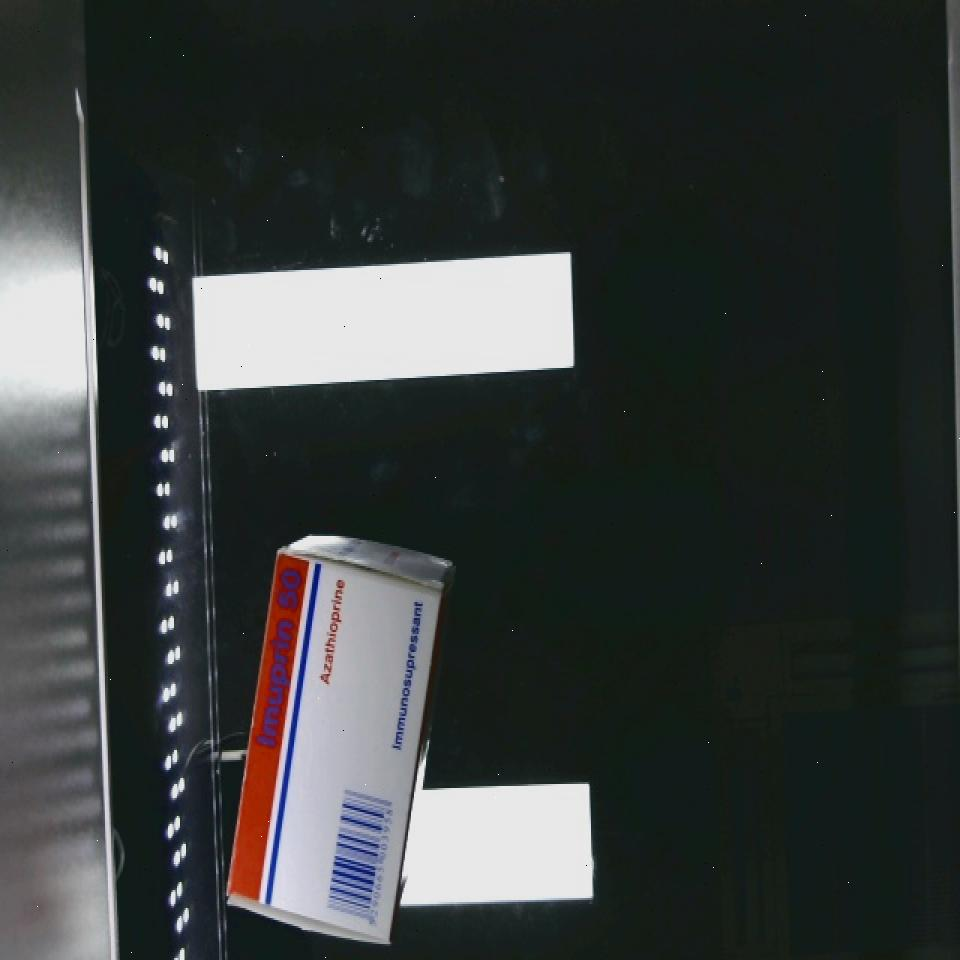medicine_box: (214, 542, 448, 938)
medicine_label_obb: (242, 545, 322, 764)
